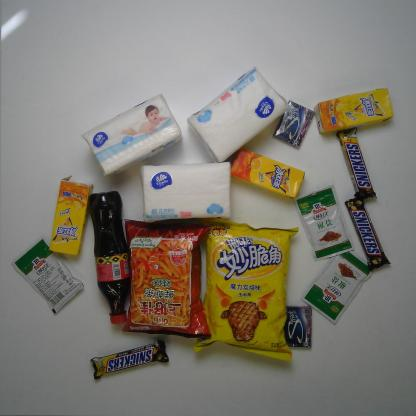Chocolate: (344, 197, 392, 271), (89, 340, 170, 380), (335, 126, 378, 200)
Drink: (88, 190, 132, 324), (230, 147, 306, 200), (314, 87, 394, 135), (48, 174, 94, 256)
Gum: (272, 99, 316, 149), (284, 304, 312, 349)
Puffed Food: (192, 217, 300, 362), (122, 218, 212, 340)
Seasoner: (10, 234, 84, 316), (300, 248, 374, 326), (293, 184, 355, 262)
Tissue: (186, 65, 290, 163), (81, 92, 184, 178), (140, 160, 232, 223)
